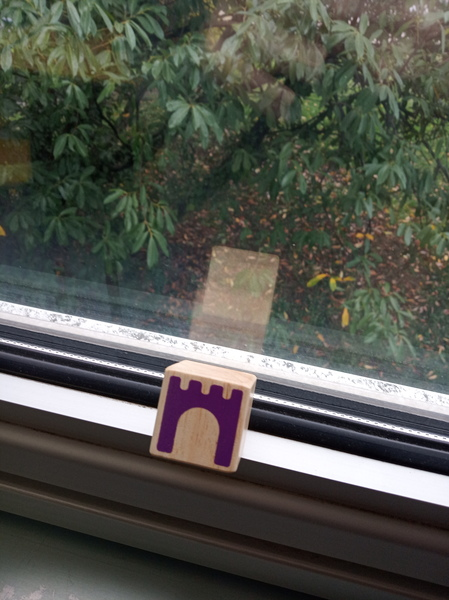violet: (163, 368, 242, 473)
